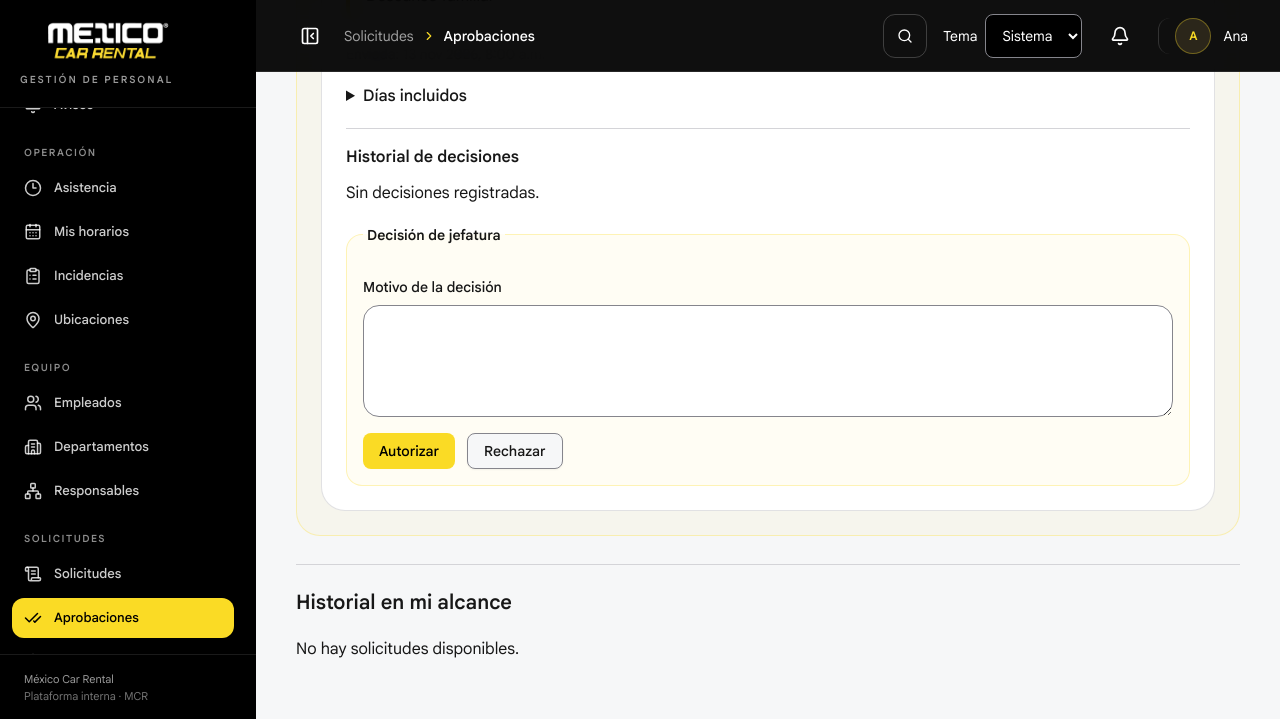
Scenario: requires a decision reason and submits only the eligible stage
(page scrolled)
Step 1. Type "Cumple política" into the text box labelled "Motivo de la decisión" → point(768, 360), box [363,304,1173,416]
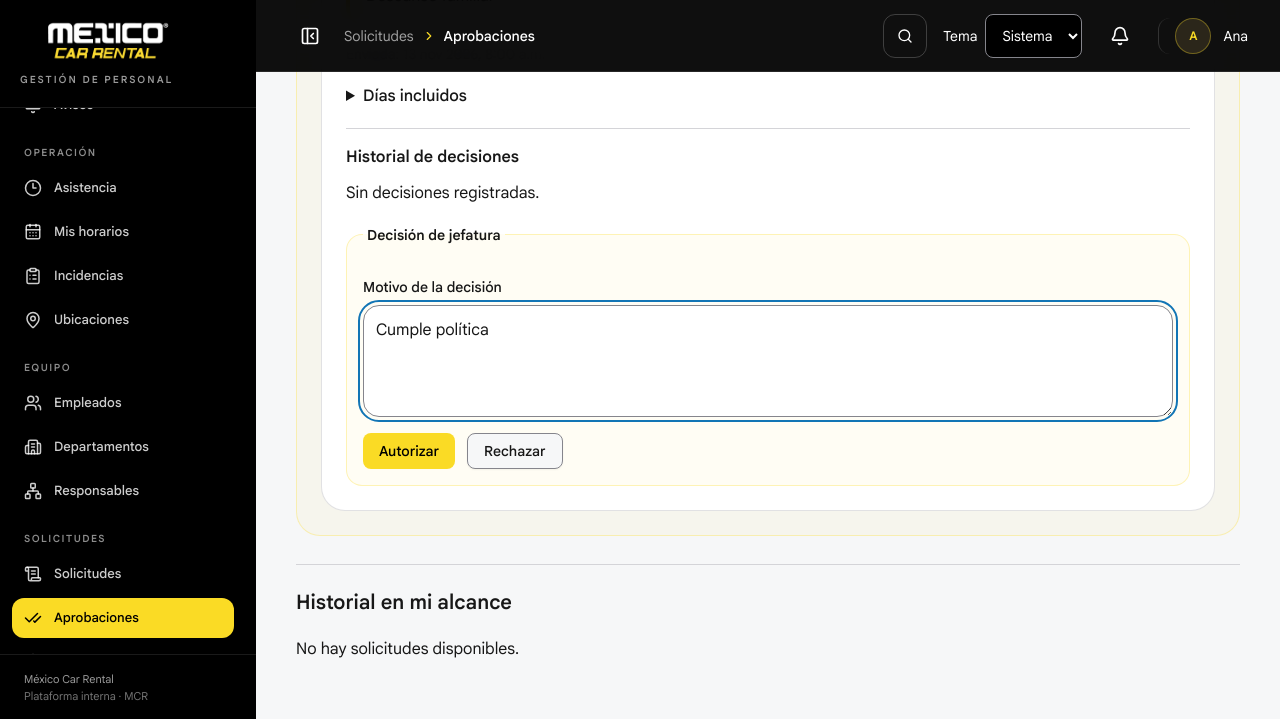
Step 2. Click the button "Autorizar" → point(409, 450), box [363,432,455,468]
(page scrolled)
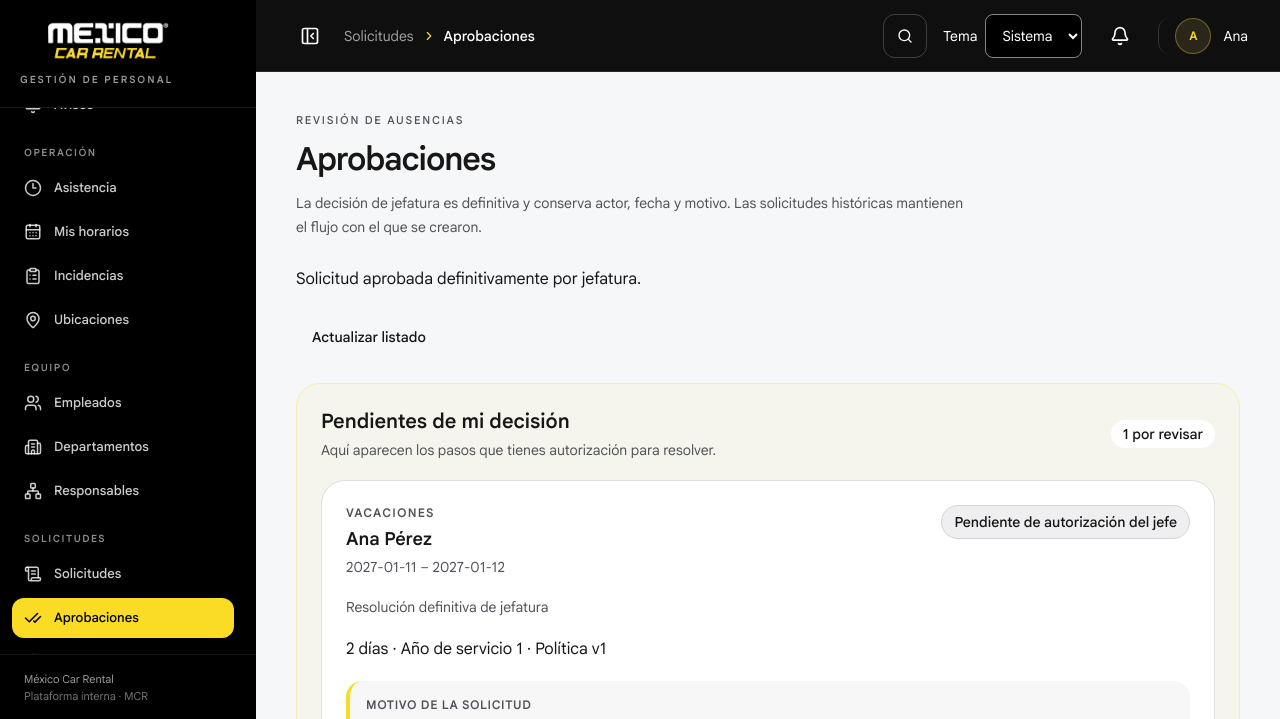
Result: the text "Solicitud aprobada definitivamente por jefatura." is shown at [296,268,641,288]
